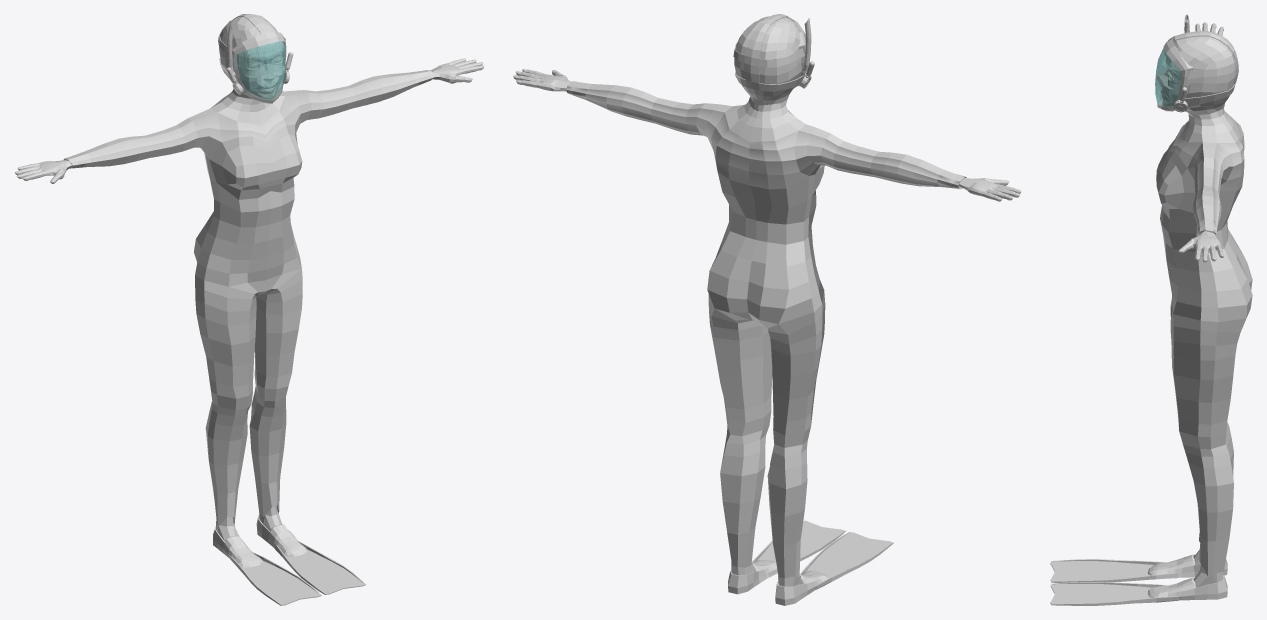
File: NSM_Mira.fbx
3 views of the same model, side by side, from view 1: azimuth 30°, elevation 25°; view 2: azimuth 150°, elevation 25°; view 3: azimuth 270°, elevation 25° (orthographic). The views are drawn at different scales.
Parts seen in each view (by area): view 1: Mira_Everything_COMPLETE_n_FIXED.001, Mira_Everything_COMPLETE_n_FIXED.004; view 2: Mira_Everything_COMPLETE_n_FIXED.001; view 3: Mira_Everything_COMPLETE_n_FIXED.001, Mira_Everything_COMPLETE_n_FIXED.004.
Boxes of the visible parts, box(x1,y1,x2,y2) form: Mira_Everything_COMPLETE_n_FIXED.001: box(14, 14, 484, 605); Mira_Everything_COMPLETE_n_FIXED.004: box(237, 41, 285, 100); Mira_Everything_COMPLETE_n_FIXED.001: box(513, 14, 1021, 605); Mira_Everything_COMPLETE_n_FIXED.001: box(1050, 14, 1252, 605); Mira_Everything_COMPLETE_n_FIXED.004: box(1155, 47, 1181, 106).
Bounding box in the file's own units: 163 × 177 × 58.42.
